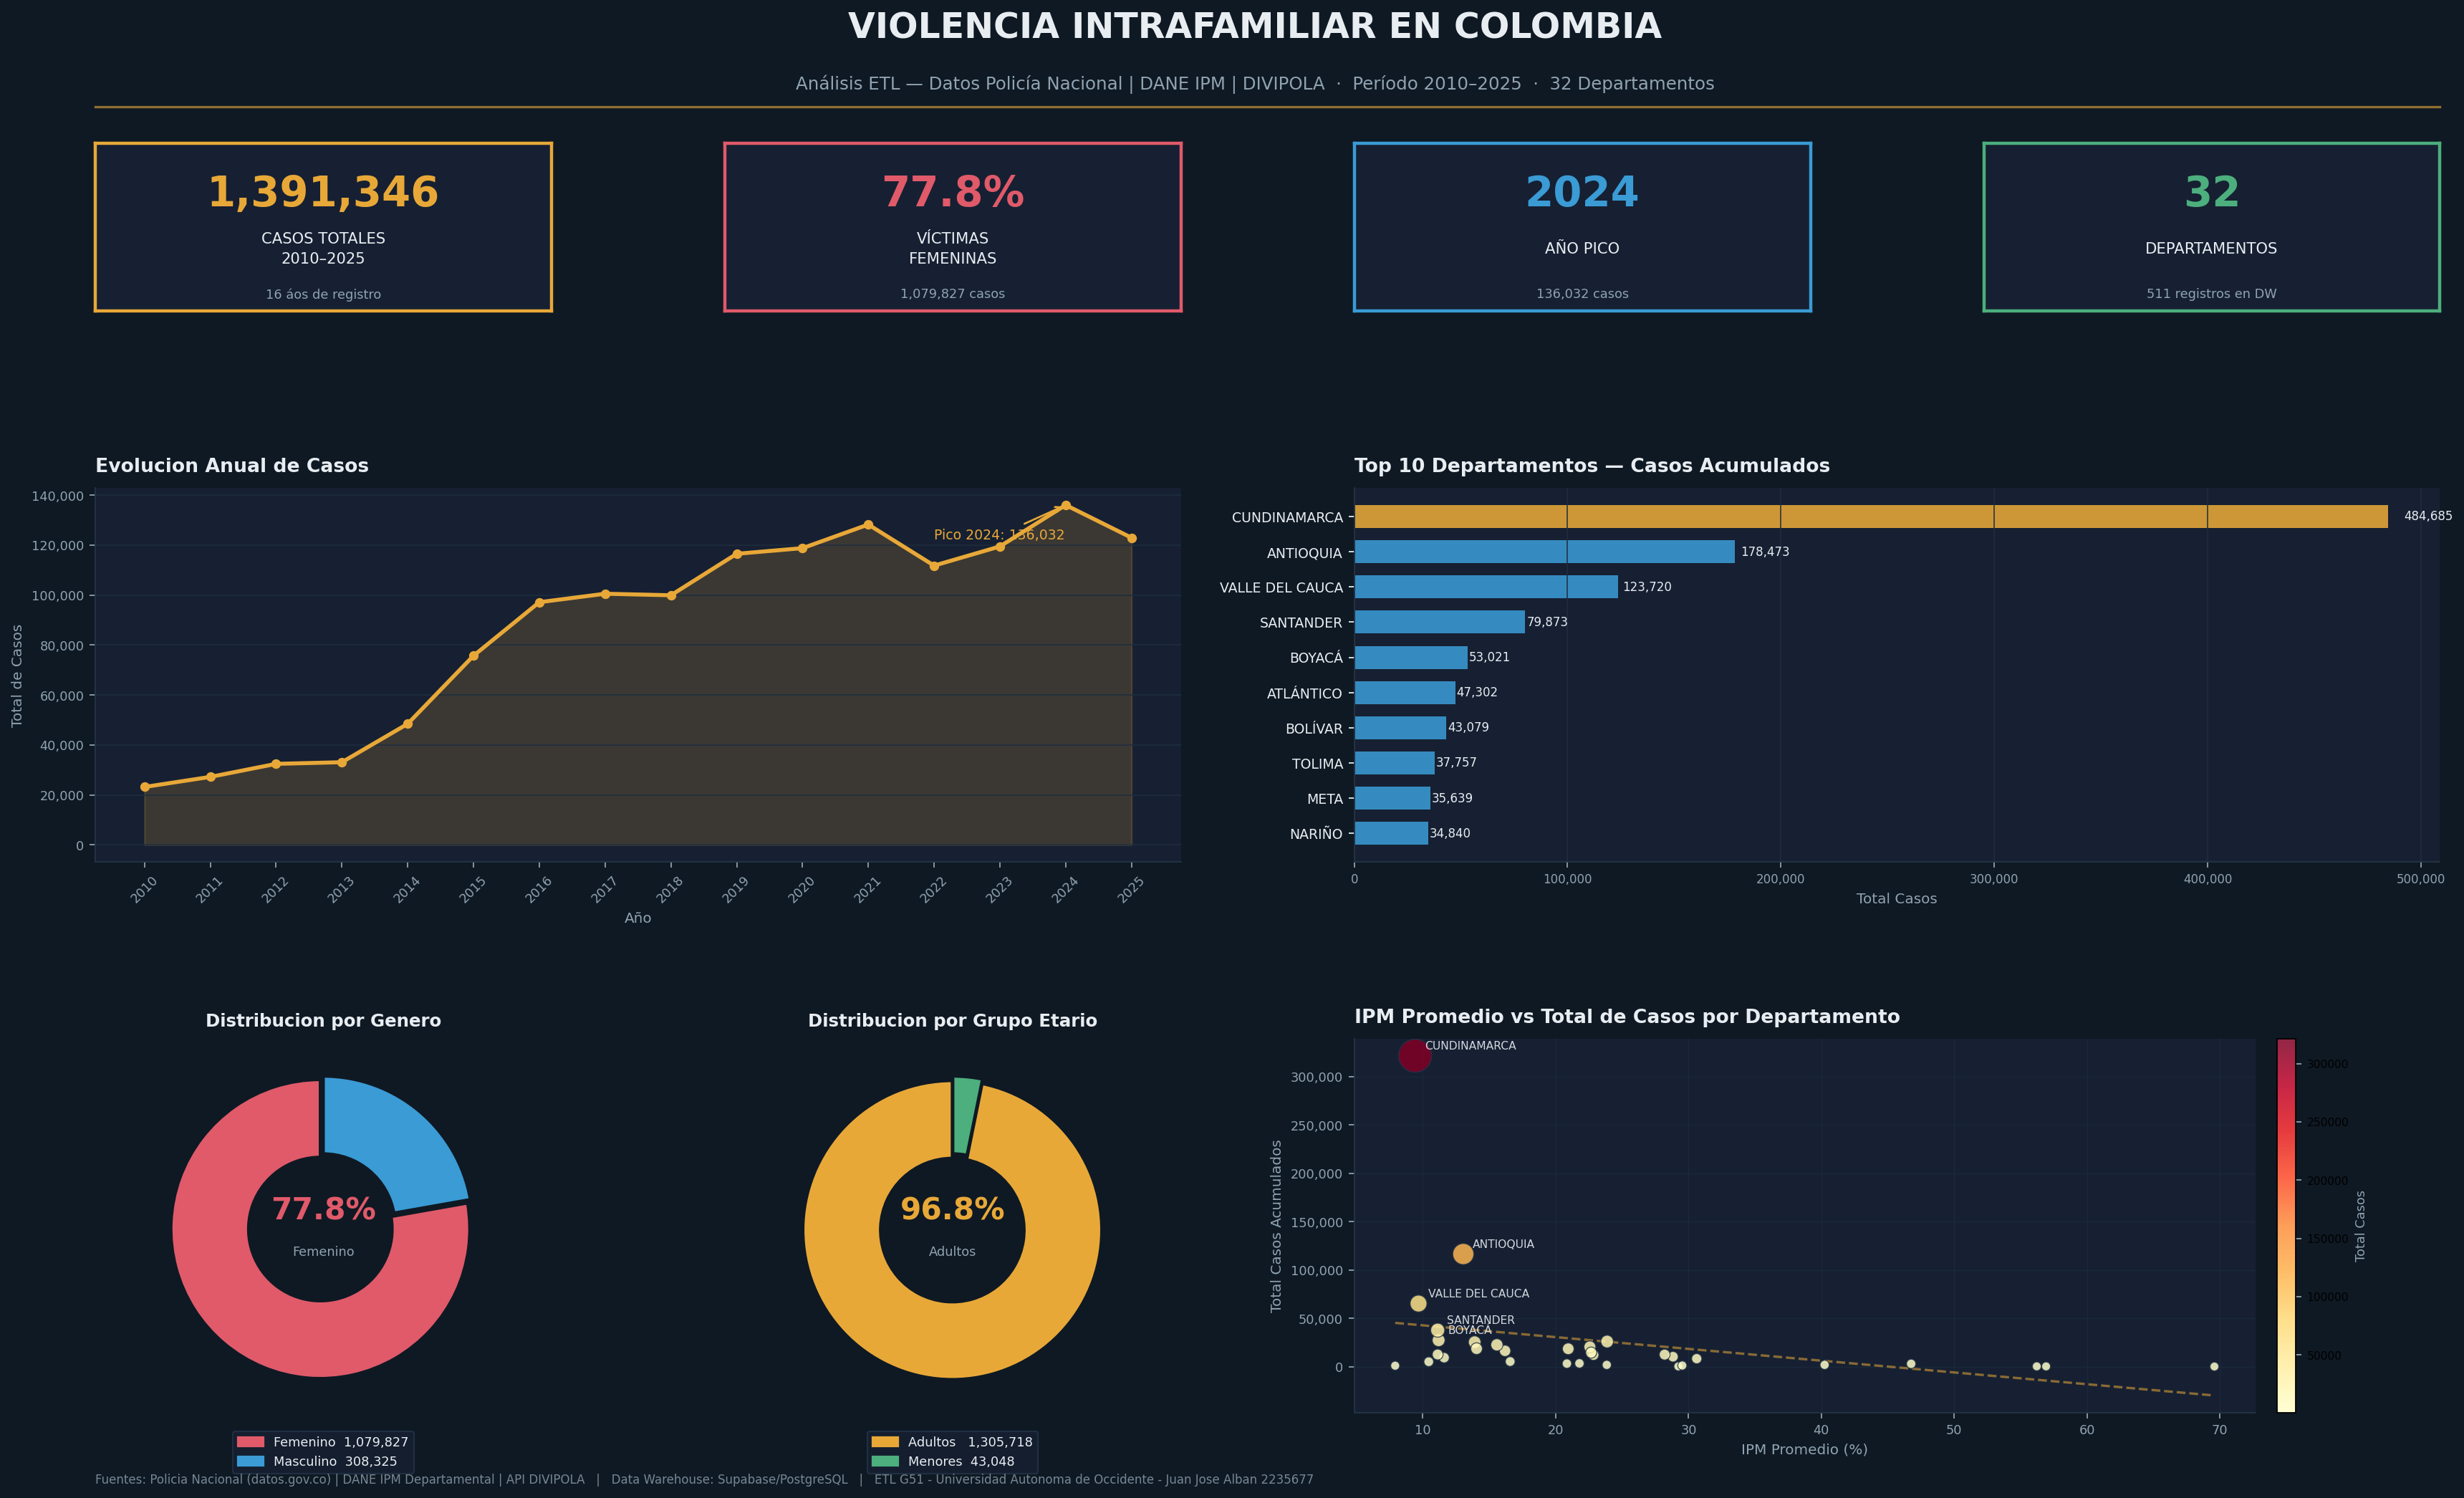

This screenshot's page, from the dashboard's own definition file:
{"tool":"powerbi","page":{"name":"Violencia intrafamiliar","canvas":[816,1200],"ordinal":0},"visuals":[{"type":"shape","box":[23,29,770,280],"z":0},{"type":"textbox","box":[10,0,357.5,280],"z":1000},{"type":"textbox","box":[10,85,358.3,280],"z":2000},{"type":"shape","box":[84,187,243,55],"z":3000},{"type":"slicer","fields":{"Values":["public violencia_intrafamiliar.GENERO"]},"box":[396,85,410,47],"z":4000},{"type":"shape","box":[46,184,320,140],"z":5000},{"type":"textbox","box":[67,201,261,41],"z":6000},{"type":"cardVisual","fields":{"Data":["Sum(public violencia_intrafamiliar.CANTIDAD)"]},"box":[88,204,242,111],"z":7000},{"type":"shape","box":[511,187,243,49],"z":8000},{"type":"shape","box":[459,184,334,140],"z":9000},{"type":"cardVisual","fields":{"Data":["public violencia_intrafamiliar.% Femenino"]},"box":[476,204,209,84],"z":10000},{"type":"textbox","box":[493,201,250,27],"z":11000},{"type":"textbox","box":[493,274,250,27],"z":12000},{"type":"shape","box":[47,319,320,140],"z":13000},{"type":"cardVisual","fields":{"Data":["public violencia_intrafamiliar.% Adultos"]},"box":[67,333,242,111],"z":14000},{"type":"textbox","box":[82,339,250,27],"z":15000},{"type":"textbox","box":[74,410,265,84],"z":16000},{"type":"shape","box":[460,319,334,140],"z":17000},{"type":"cardVisual","fields":{"Data":["public violencia_intrafamiliar.Top Departamento"]},"box":[487,333,281,111],"z":18000},{"type":"textbox","box":[502,339,266,50],"z":19000},{"type":"textbox","box":[494,402,266,50],"z":20000},{"type":"shape","box":[35,457,358,307],"z":21000},{"type":"donutChart","title":"Distribución por Género","fields":{"Category":["public violencia_intrafamiliar.GENERO"],"Y":["Sum(public violencia_intrafamiliar.CANTIDAD)"]},"box":[55,503,338,245],"z":22000},{"type":"shape","box":[423,457,372,307],"z":23000},{"type":"donutChart","title":"Distribución por Grupo Etario","fields":{"Category":["public violencia_intrafamiliar.GRUPO ETARIO"],"Y":["Sum(public violencia_intrafamiliar.CANTIDAD)"]},"box":[448,499,334,265],"z":24000},{"type":"shape","box":[31,775,768,204],"z":25000},{"type":"lineChart","title":"Evolución Anual de la Violencia Intrafamiliar","fields":{"Category":["public violencia_intrafamiliar.YEAR"],"Y":["Sum(public violencia_intrafamiliar.CANTIDAD)"]},"box":[51,793,733,186],"z":26000},{"type":"shape","box":[31,979,768,204],"z":27000},{"type":"clusteredColumnChart","title":"Casos por Día de la Semana","fields":{"Category":["public violencia_intrafamiliar.WEEKDAY"],"Y":["Sum(public violencia_intrafamiliar.CANTIDAD)"]},"box":[67,995,728,179],"z":28000},{"type":"textbox","box":[632.9,2.9,175.7,50],"z":28001}]}

Visuals, with their boxes on the page's 816x1200 design canvas (x1, y1, x2, y2). These are canvas units, not pixel positions in the 2464x1498 screenshot, which may show the page scaled, cropped or inside an application window:
shape: locate(23, 29, 793, 309)
textbox: locate(10, 0, 368, 280)
textbox: locate(10, 85, 368, 365)
shape: locate(84, 187, 327, 242)
slicer - public violencia_intrafamiliar.GENERO: locate(396, 85, 806, 132)
shape: locate(46, 184, 366, 324)
textbox: locate(67, 201, 328, 242)
cardVisual - Sum(public violencia_intrafamiliar.CANTIDAD): locate(88, 204, 330, 315)
shape: locate(511, 187, 754, 236)
shape: locate(459, 184, 793, 324)
cardVisual - public violencia_intrafamiliar.% Femenino: locate(476, 204, 685, 288)
textbox: locate(493, 201, 743, 228)
textbox: locate(493, 274, 743, 301)
shape: locate(47, 319, 367, 459)
cardVisual - public violencia_intrafamiliar.% Adultos: locate(67, 333, 309, 444)
textbox: locate(82, 339, 332, 366)
textbox: locate(74, 410, 339, 494)
shape: locate(460, 319, 794, 459)
cardVisual - public violencia_intrafamiliar.Top Departamento: locate(487, 333, 768, 444)
textbox: locate(502, 339, 768, 389)
textbox: locate(494, 402, 760, 452)
shape: locate(35, 457, 393, 764)
"Distribución por Género" donutChart: locate(55, 503, 393, 748)
shape: locate(423, 457, 795, 764)
"Distribución por Grupo Etario" donutChart: locate(448, 499, 782, 764)
shape: locate(31, 775, 799, 979)
"Evolución Anual de la Violencia Intrafamiliar" lineChart: locate(51, 793, 784, 979)
shape: locate(31, 979, 799, 1183)
"Casos por Día de la Semana" clusteredColumnChart: locate(67, 995, 795, 1174)
textbox: locate(633, 3, 809, 53)
